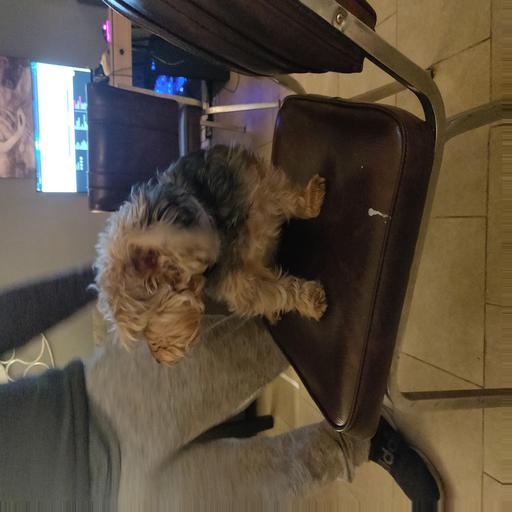dog: (97, 143, 323, 369)
